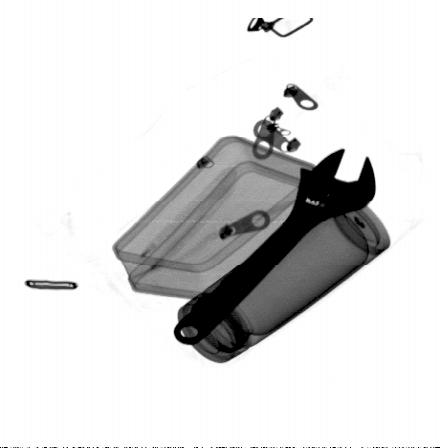Wrench: (173, 145, 379, 347)
